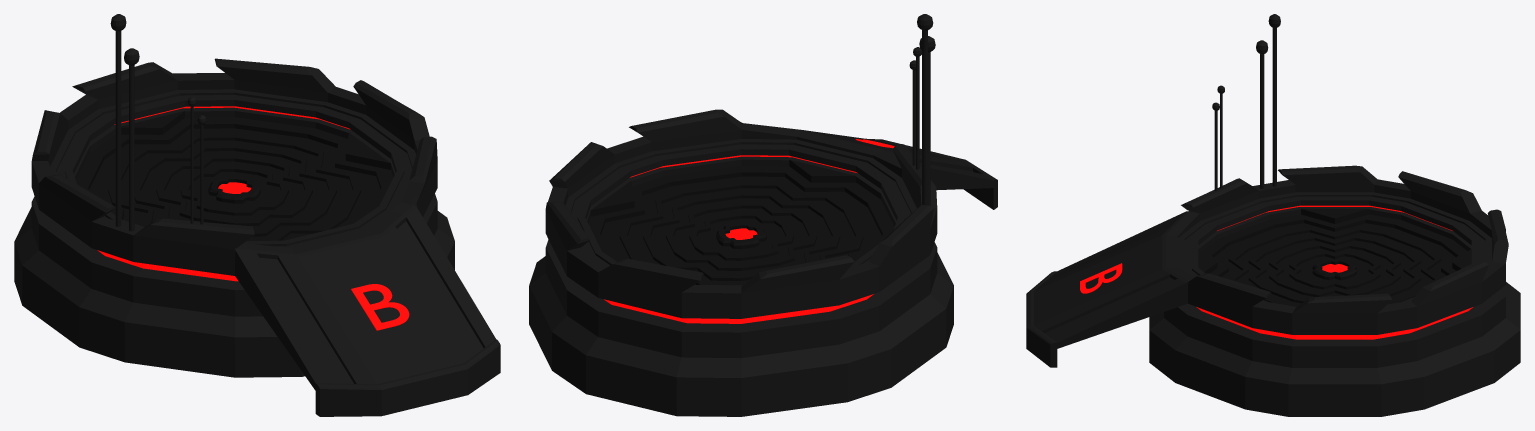
The model's file is bot_builder.glb.
3 renders of one model, left to right at view 1: azimuth 30°, elevation 25°; view 2: azimuth 150°, elevation 25°; view 3: azimuth 270°, elevation 25°, orthographic. The views are drawn at different scales.
Parts seen in each view (by area): view 1: Bot_Builder, Door, Bot_Builder_Lvl_2, Antenna_Small_Lvl2, Text, Light_01, Bot_Builder_Lvl_1, Antenna_Small; view 2: Bot_Builder, Door, Light_01, Bot_Builder_Lvl_2, Antenna_Small_Lvl2, Bot_Builder_Lvl_1, Antenna_Small; view 3: Bot_Builder, Door, Light_01, Bot_Builder_Lvl_2, Antenna_Small_Lvl2, Text.
Part boxes in pixels (x1=…): Bot_Builder: x1=14, y1=58, x2=500, y2=416; Door: x1=76, y1=111, x2=393, y2=240; Bot_Builder_Lvl_2: x1=110, y1=14, x2=126, y2=226; Antenna_Small_Lvl2: x1=124, y1=48, x2=139, y2=231; Text: x1=351, y1=284, x2=409, y2=330; Light_01: x1=97, y1=106, x2=350, y2=281; Bot_Builder_Lvl_1: x1=188, y1=96, x2=196, y2=223; Antenna_Small: x1=197, y1=115, x2=206, y2=224; Bot_Builder: x1=529, y1=109, x2=997, y2=416; Door: x1=588, y1=159, x2=894, y2=285; Light_01: x1=604, y1=155, x2=873, y2=323; Bot_Builder_Lvl_2: x1=917, y1=14, x2=933, y2=205; Antenna_Small_Lvl2: x1=919, y1=36, x2=935, y2=205; Bot_Builder_Lvl_1: x1=913, y1=47, x2=921, y2=169; Antenna_Small: x1=909, y1=60, x2=915, y2=165; Bot_Builder: x1=1026, y1=165, x2=1520, y2=416; Door: x1=1198, y1=208, x2=1471, y2=306; Light_01: x1=1196, y1=205, x2=1472, y2=339; Bot_Builder_Lvl_2: x1=1268, y1=14, x2=1280, y2=186; Antenna_Small_Lvl2: x1=1256, y1=40, x2=1268, y2=188; Text: x1=1080, y1=263, x2=1122, y2=293.
Bounding box in the file's own units: 14.5 × 12.48 × 20.8.
